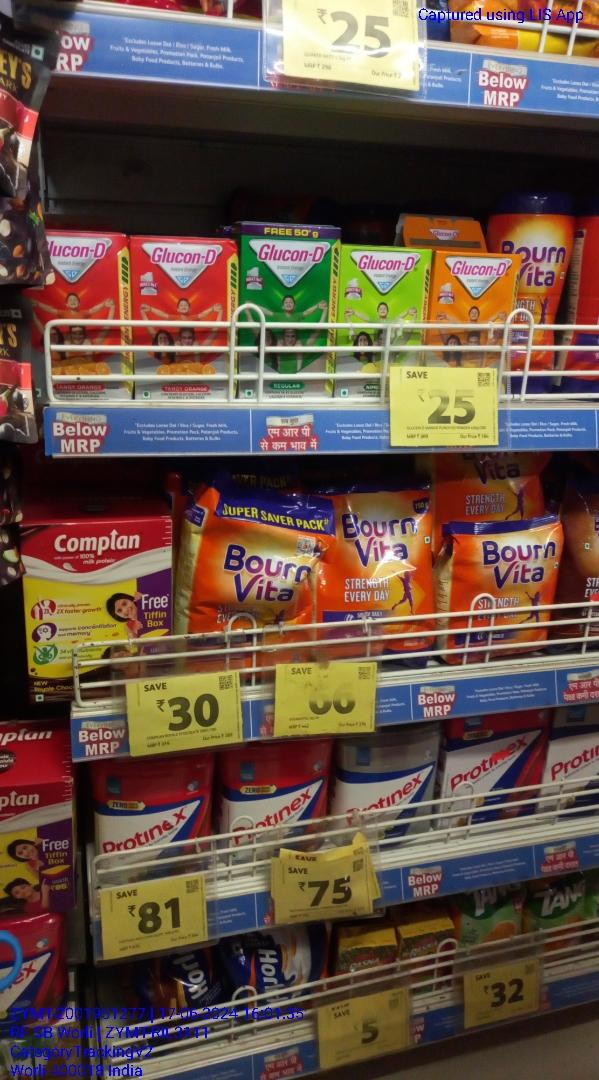BOURN_VITA_1_KG_POUCH: (184, 485, 313, 662)
BOURN_VITA_500_G_POUCH: (450, 522, 553, 656)
BOURN_VITA_750_G_POUCH: (324, 478, 434, 656)
COMPLAN_CHOCOLATE_500_GMS_PACK: (22, 519, 173, 682)
PROTINEX_CHOCOLATE_400_G_JAR: (97, 759, 212, 868), (225, 749, 330, 847)
PROTINEX_ORIGINAL_400_G_JAR: (337, 733, 441, 835)
